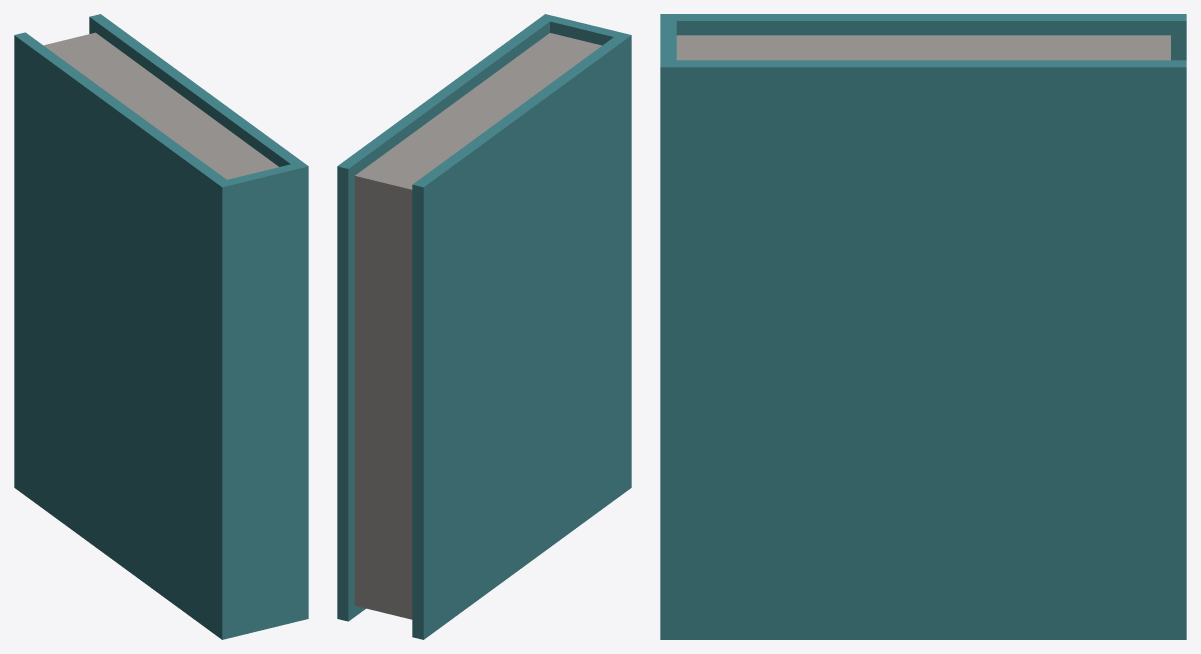
The model's file is SM_Props_Interior_Generic_Office_File_Small_01.fbx.
The picture shows the model from 3 angles, left to right: view 1: azimuth 30°, elevation 25°; view 2: azimuth 150°, elevation 25°; view 3: azimuth 270°, elevation 25°; orthographic projection. The views are drawn at different scales.
Visible parts, largest first — view 1: SM_Props_Interior_Generic_Office_File_Small_01; view 2: SM_Props_Interior_Generic_Office_File_Small_01; view 3: SM_Props_Interior_Generic_Office_File_Small_01.
Boxes of the visible parts, left/top/right/bottom form: SM_Props_Interior_Generic_Office_File_Small_01: left=14, top=14, right=308, bottom=639; SM_Props_Interior_Generic_Office_File_Small_01: left=337, top=14, right=631, bottom=639; SM_Props_Interior_Generic_Office_File_Small_01: left=660, top=14, right=1186, bottom=639.
Size of the model in its own units: 7.2 by 36 by 30.
